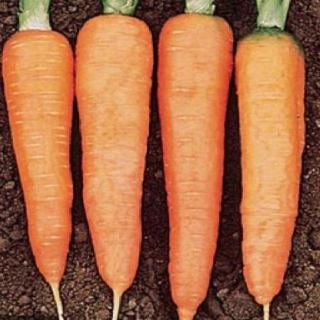carrot: (153, 15, 235, 318), (74, 14, 156, 304), (230, 26, 312, 312), (2, 25, 74, 303)
